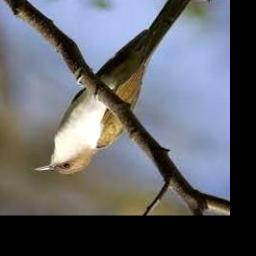Cuckoo: (33, 0, 202, 174)
